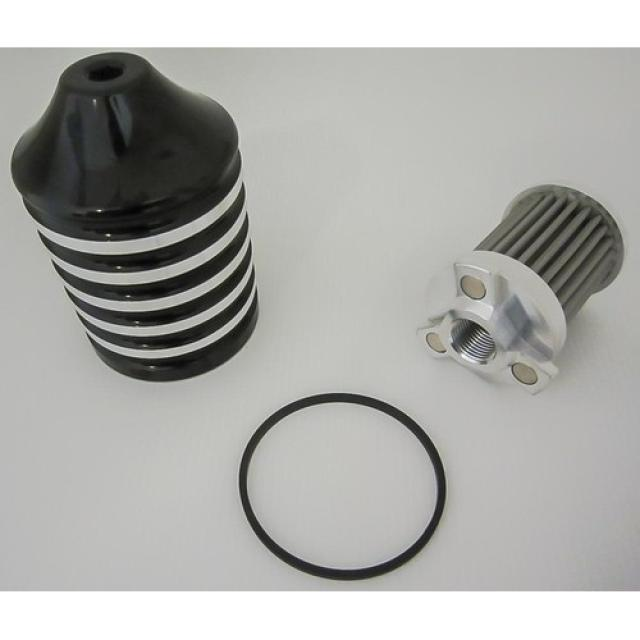oil_filter: (411, 170, 631, 399)
